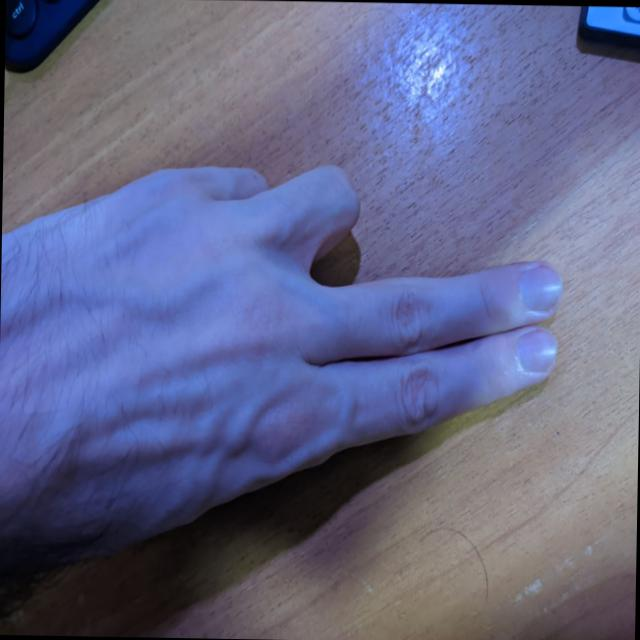p: (72, 130, 564, 540)
